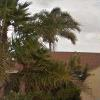Palm tree: (3, 1, 79, 57)
